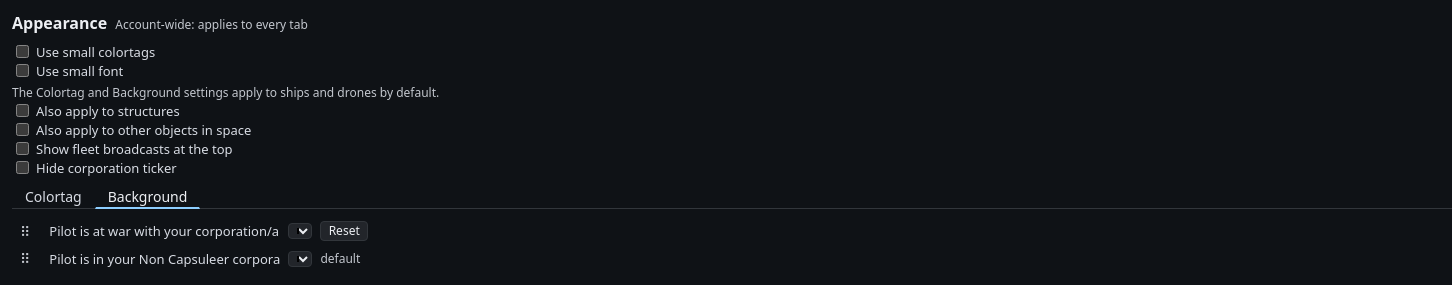
Test: the colortag surface › offers a colour control, showing the stored flag colour
The width and height of the screenshot is (1452, 285).
Click the tab "Colortag". click: (53, 197)
box: [12,185,95,209]
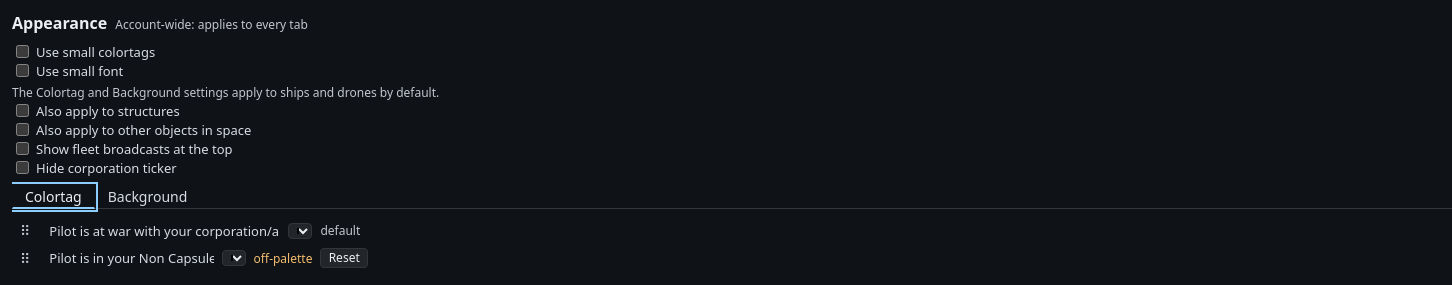
Result: the colour field named "Colortag colour" next to "off-palette" holds "#1a334d" at [222,250,246,266]
